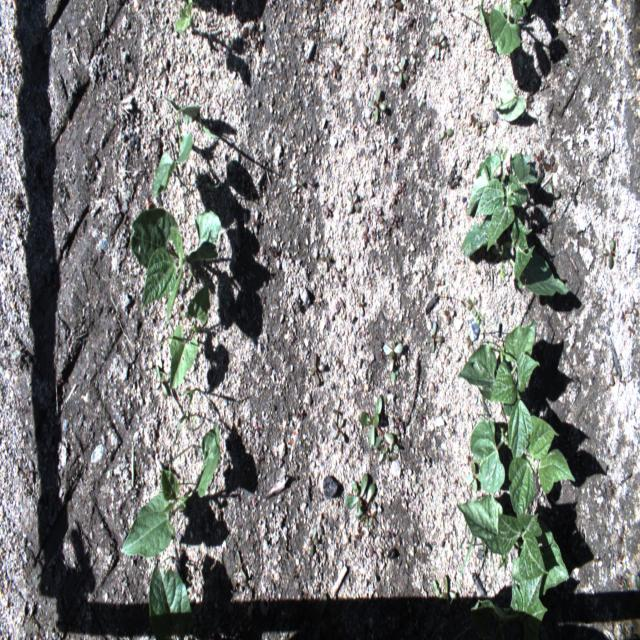crop: (462, 150, 573, 298), (114, 412, 220, 560), (467, 402, 578, 521), (126, 206, 227, 323), (472, 530, 574, 633), (454, 320, 542, 402), (459, 496, 546, 558), (149, 551, 204, 635), (478, 2, 534, 63)
weed: (167, 284, 207, 392), (143, 90, 223, 140), (341, 463, 378, 536), (148, 132, 194, 190), (358, 392, 394, 450), (493, 74, 534, 120), (364, 80, 388, 129), (380, 340, 404, 388), (389, 52, 413, 90), (430, 574, 460, 602), (151, 364, 173, 402), (305, 348, 328, 384), (172, 2, 200, 30), (428, 26, 447, 64), (426, 320, 444, 357)
